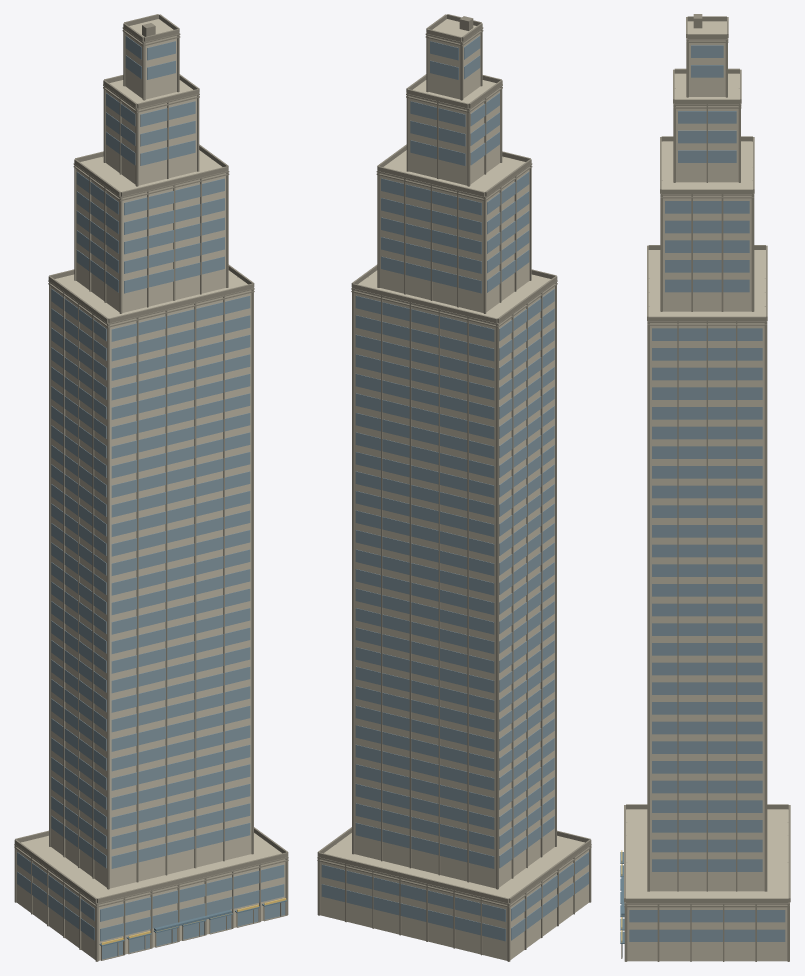
The model's file is commercial_4x3_tower_crown.glb.
3 renders of one model, left to right at view 1: azimuth 30°, elevation 25°; view 2: azimuth 150°, elevation 25°; view 3: azimuth 270°, elevation 25°, orthographic.
Visible parts, largest first — view 1: commercial_4x3_tower_crown_0; view 2: commercial_4x3_tower_crown_0; view 3: commercial_4x3_tower_crown_0.
Part boxes in pixels (x1,y1,x2,y2): commercial_4x3_tower_crown_0: (14,14,288,961); commercial_4x3_tower_crown_0: (317,14,591,961); commercial_4x3_tower_crown_0: (620,14,790,961).
Size of the model in its own units: 31 by 136 by 23.5.
